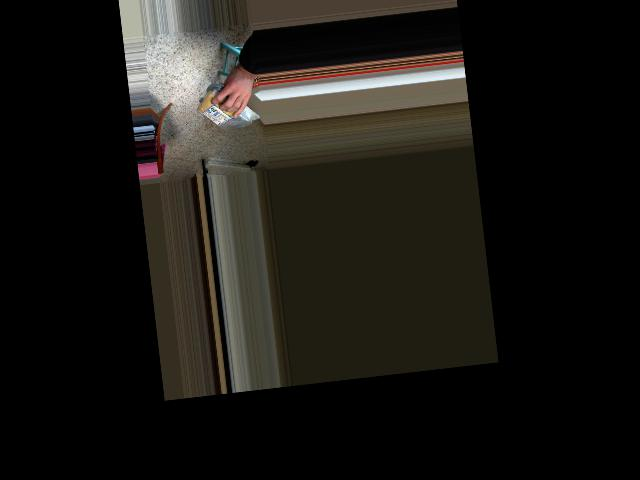cheese: (197, 89, 261, 129)
